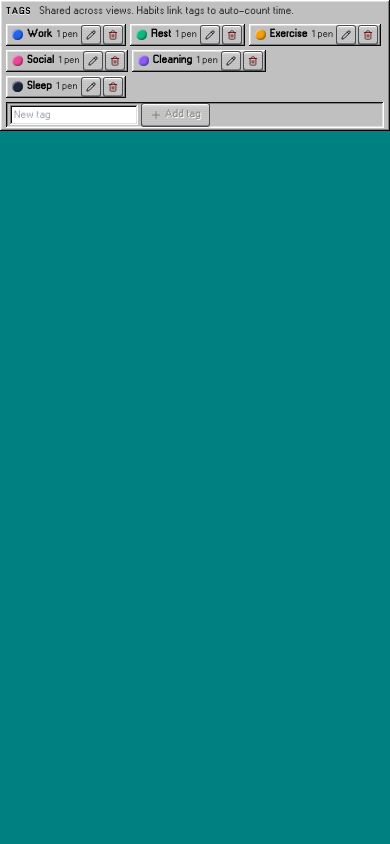
Scenario: TrackingTagsPanel › opens tag settings from Edit and renames there
Click the button named "Edit tag Sleep" at (91, 86), box [82, 78, 100, 96]
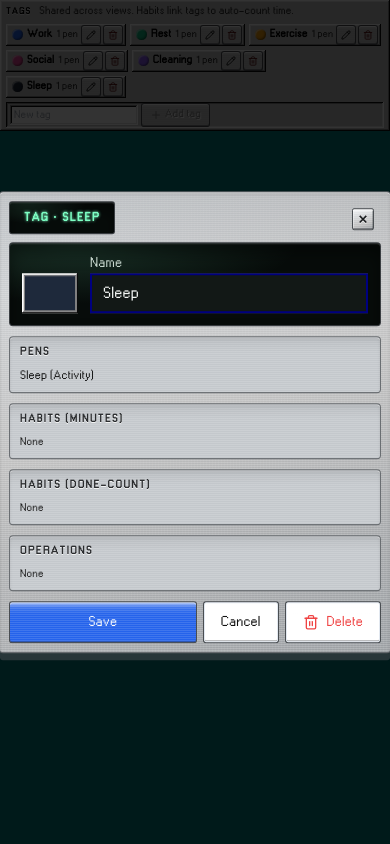
Now the field named "Tag name" holds "Sleep"
Replace the text in the field named "Tag name" with "Night" at (229, 293), box [90, 273, 368, 313]
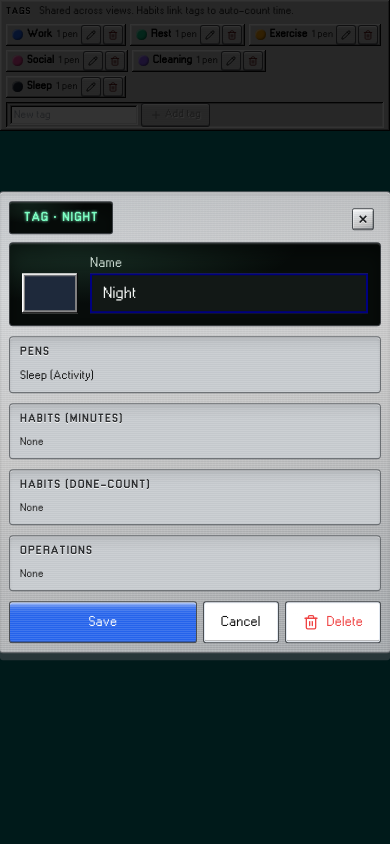
Click the button "Save" at (103, 622), box [10, 602, 196, 642]
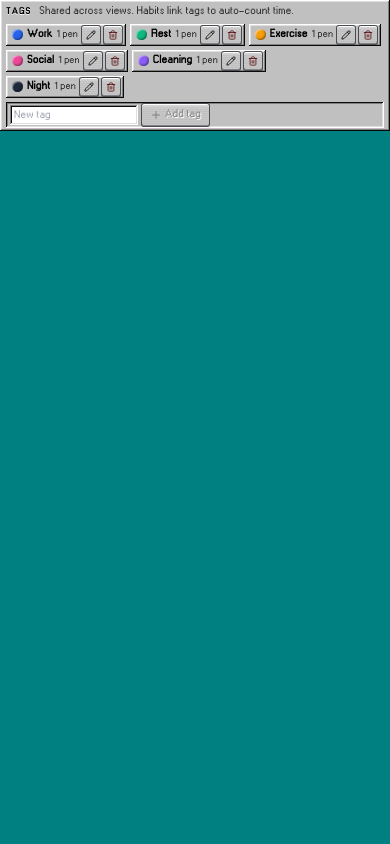
Now the text "Night" is shown, box [27, 78, 50, 95]
